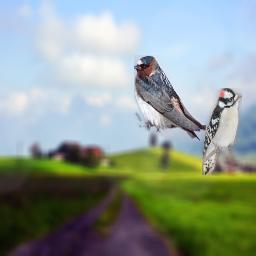Swallow: (134, 55, 206, 142)
Woodpecker: (202, 88, 242, 175)
